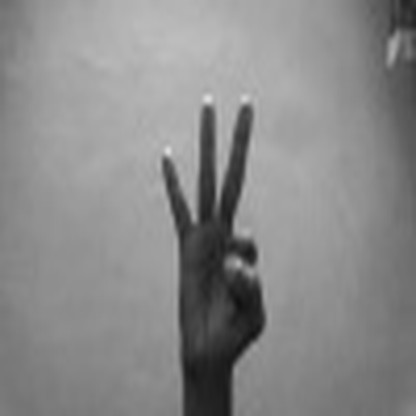f: (147, 89, 279, 372)
